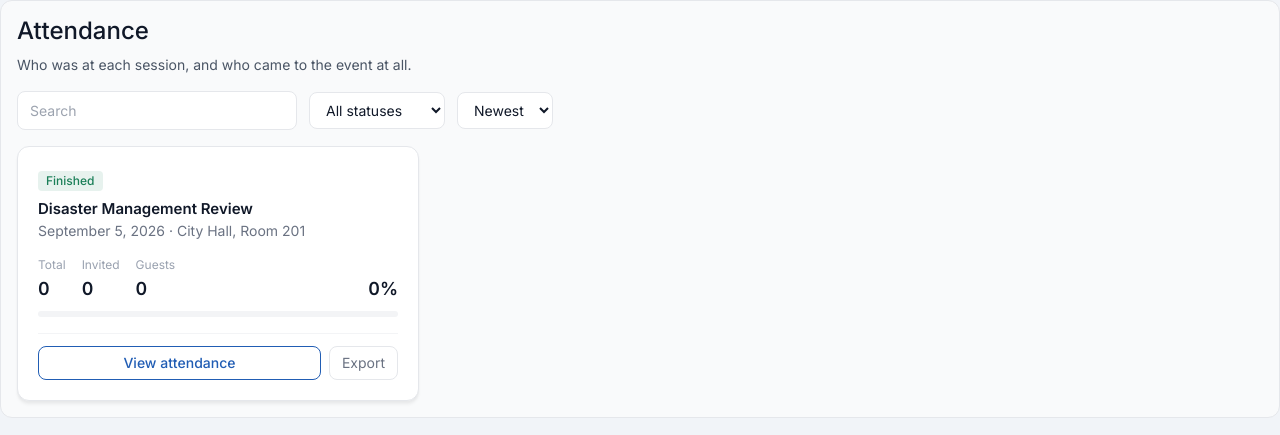
Test case: opening one event from the grid › gives the register the columns the design asks for
Step 1. Click the button "View attendance" → coordinates (179, 363), box top-left (38, 346), bottom-right (321, 380)
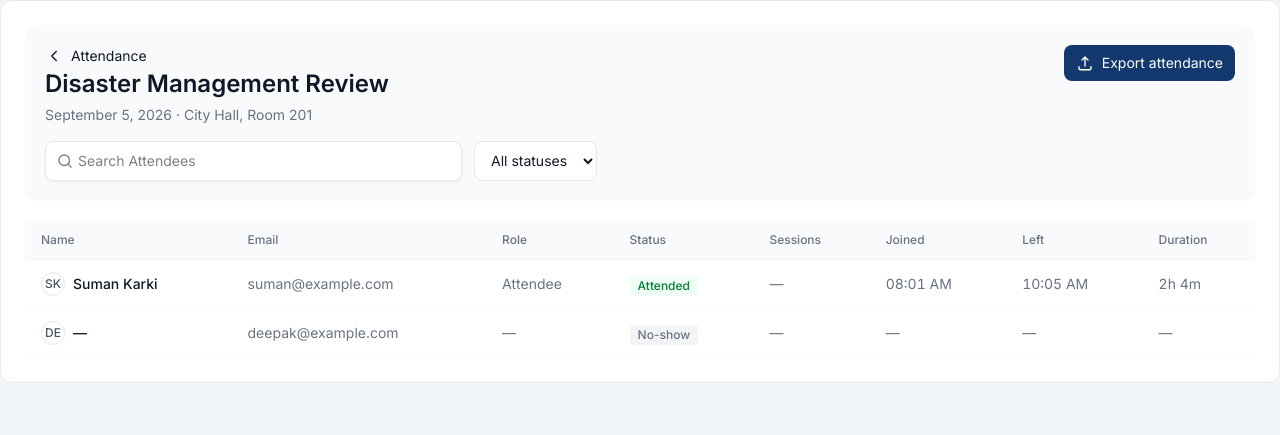
Expected: the column heading "Name" is shown, top-left (25, 221), bottom-right (232, 259)
Expected: the column heading "Email" is shown, top-left (232, 221), bottom-right (486, 259)
Expected: the column heading "Role" is shown, top-left (486, 221), bottom-right (614, 259)
